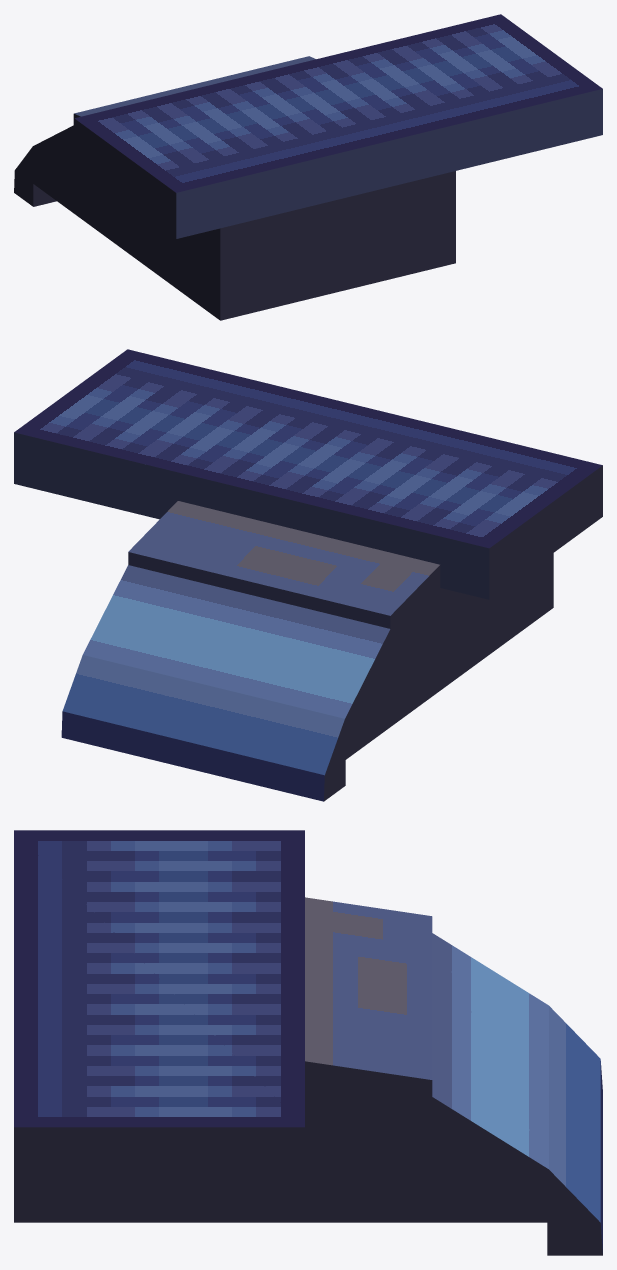
Rendered from df21_dynamic_radiator_lh.obj.
The picture shows the model from 3 angles, top to bottom: view 1: azimuth 30°, elevation 25°; view 2: azimuth 150°, elevation 25°; view 3: azimuth 270°, elevation 25°; orthographic projection. The views are drawn at different scales.
Parts seen in each view (by area): view 1: cuboid_selection_selection_selection_selection_selection_selecti; view 2: cuboid_selection_selection_selection_selection_selection_selecti; view 3: cuboid_selection_selection_selection_selection_selection_selecti.
Boxes of the visible parts, x1,y1,x2,y2 form: cuboid_selection_selection_selection_selection_selection_selecti: [14, 14, 602, 320]; cuboid_selection_selection_selection_selection_selection_selecti: [14, 349, 602, 801]; cuboid_selection_selection_selection_selection_selection_selecti: [14, 830, 602, 1255].
Size of the model in its own units: 1.81 by 0.6562 by 1.52.
